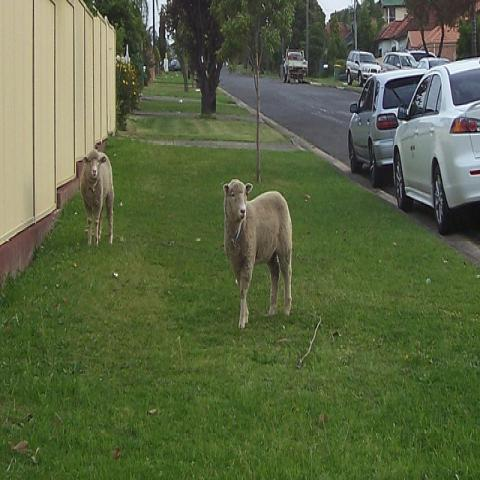car: (391, 56, 479, 238), (346, 67, 428, 190), (345, 49, 382, 87), (382, 49, 413, 75), (416, 54, 450, 70), (169, 60, 181, 71)
